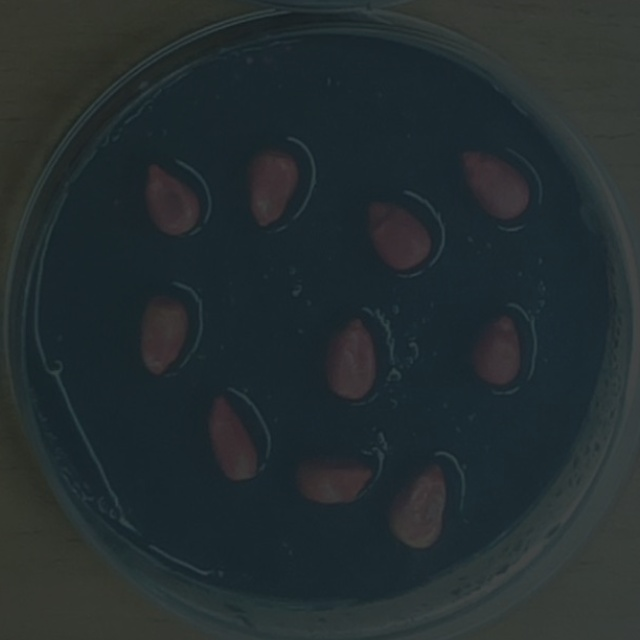Zea mays: (377, 451, 451, 554), (452, 139, 537, 225), (199, 385, 270, 487), (357, 191, 437, 278), (315, 306, 383, 406), (284, 442, 380, 511), (238, 136, 305, 234), (137, 152, 207, 241), (134, 286, 195, 382), (460, 305, 525, 392)
